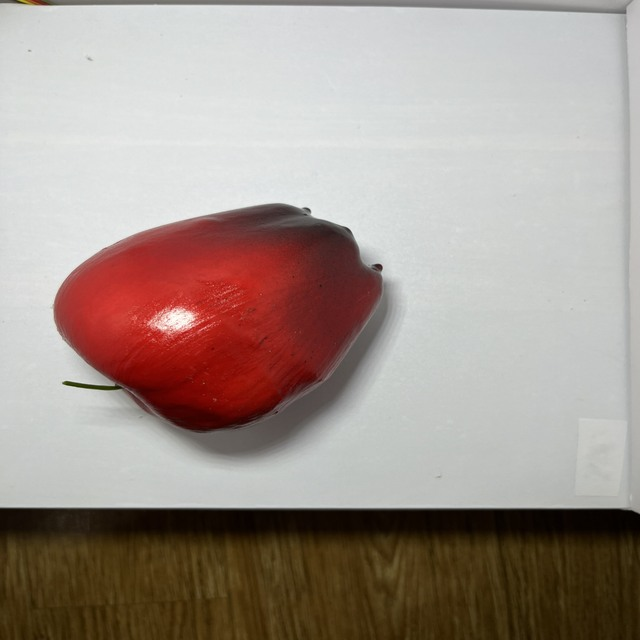Tao: (17, 98, 431, 512)
